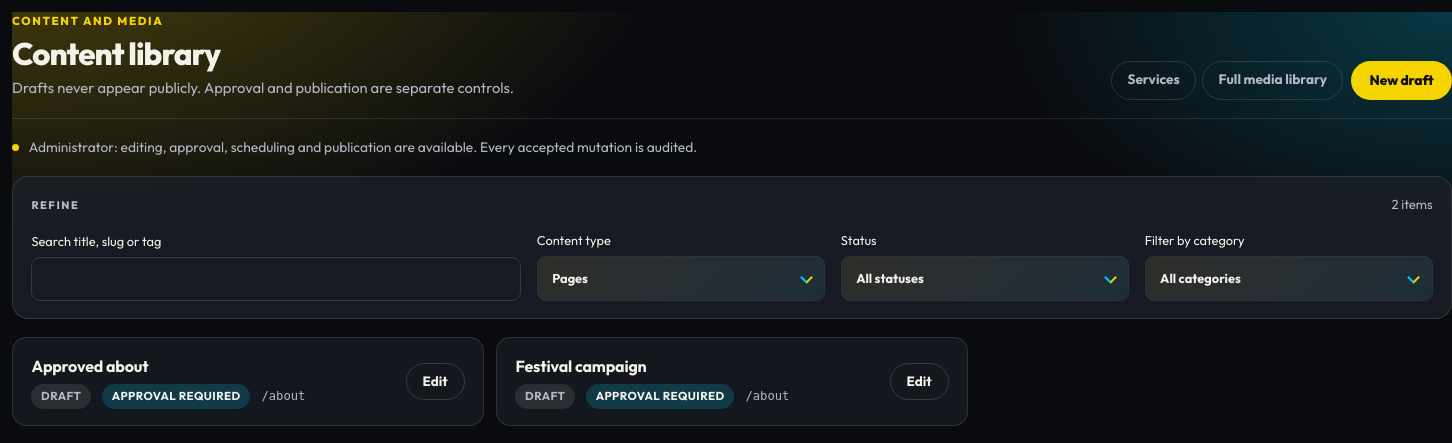
Scenario: filters the library without losing drafts
The width and height of the screenshot is (1452, 443).
Expected: the text "Festival campaign" is shown, [515,356,647,376]
Step 1. Type "festival" into the field labelled "Search title, slug or tag" → (276, 279), box [31,257,521,301]
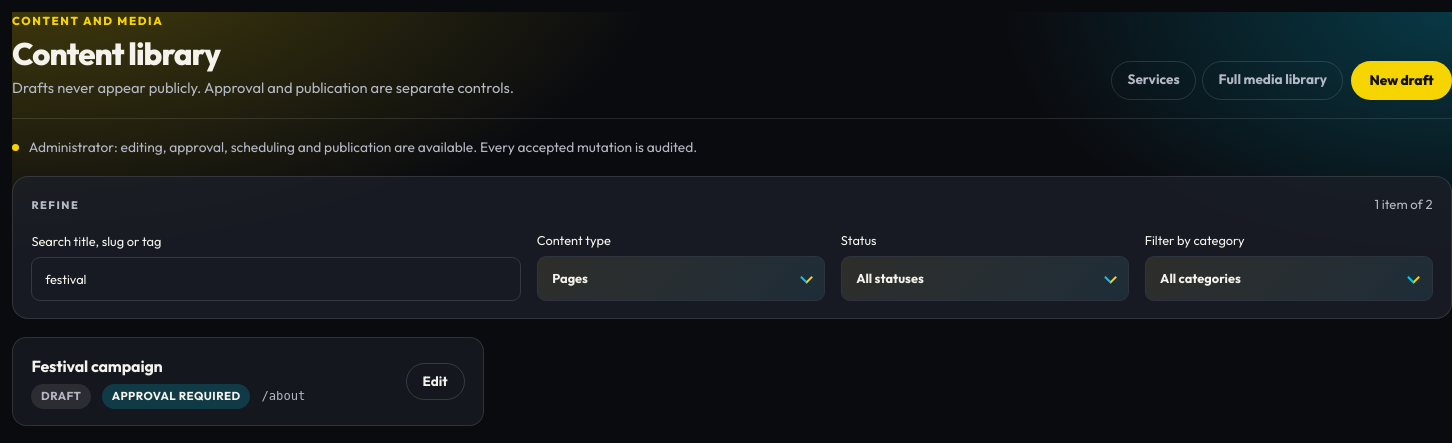
Expected: the text "Festival campaign" is shown, [31,356,163,376]
Now the text "Approved about" is gone
Now the text "1 item of 2" is shown, box [1374,194,1433,215]
